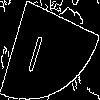I: (25, 25, 48, 74)
